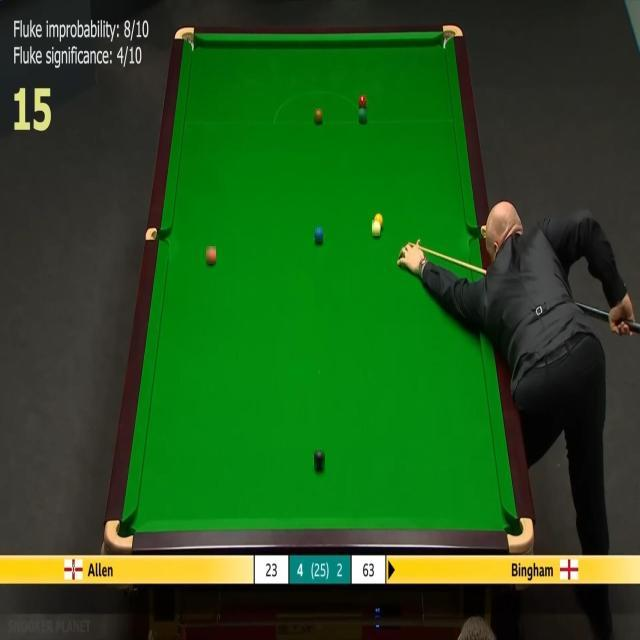Ball: (314, 450, 325, 468), (206, 246, 216, 264), (372, 220, 380, 236), (314, 108, 322, 124), (374, 214, 383, 228), (315, 227, 323, 242), (360, 109, 368, 123), (360, 96, 368, 110)
